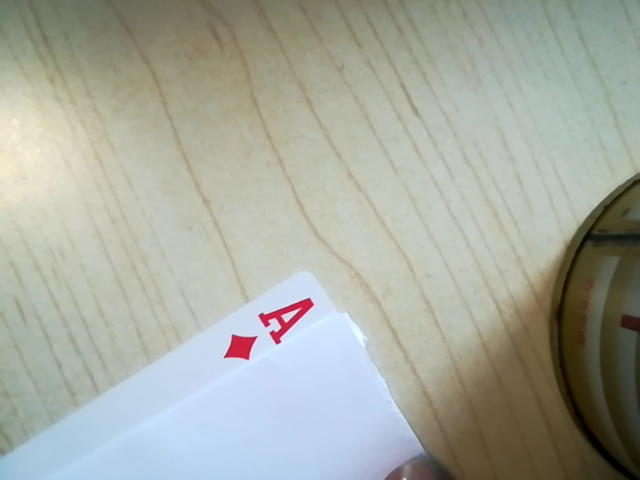fk a: (213, 294, 324, 364)
